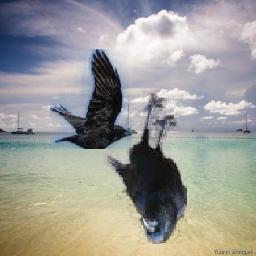Crow: (99, 92, 188, 251), (50, 49, 132, 149)
